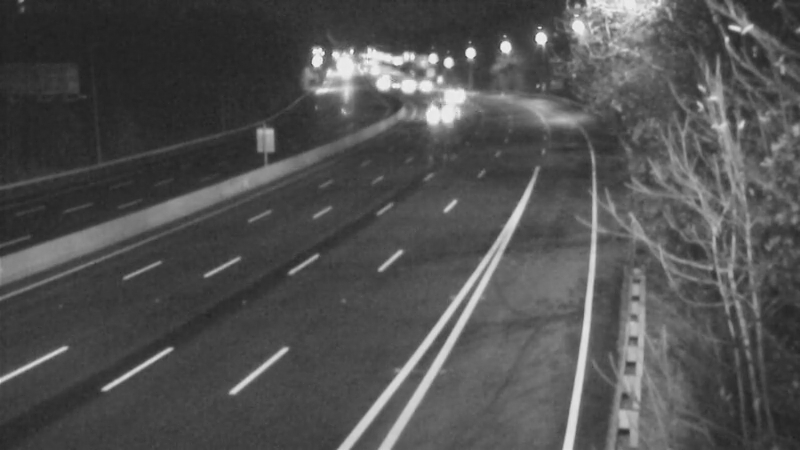vehicle: (397, 59, 447, 109), (379, 61, 429, 111), (430, 69, 480, 119), (419, 90, 469, 140)
